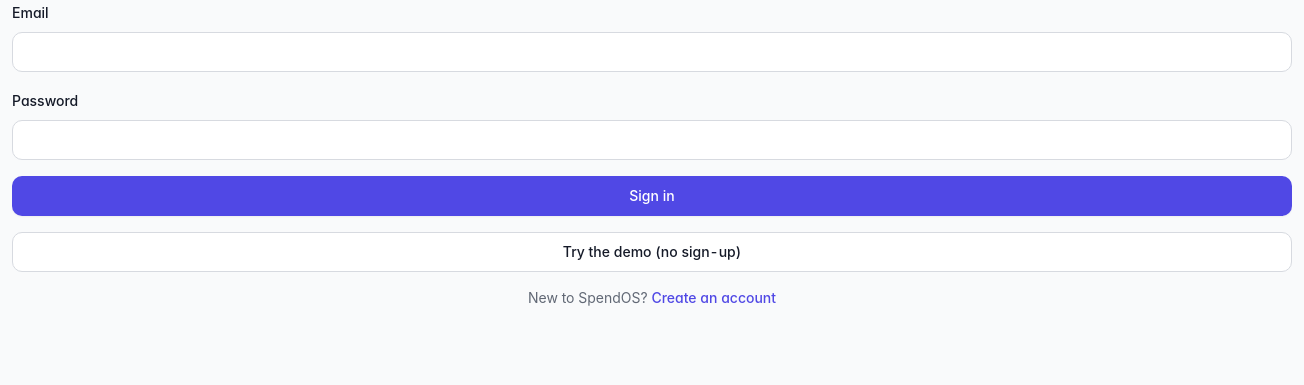
Test: LoginForm › shows the server error for bad credentials
Type "a@example.com" into the field labelled "Email".
click(652, 52); type("a@example.com")  # box x1=12 y1=32 x2=1292 y2=72
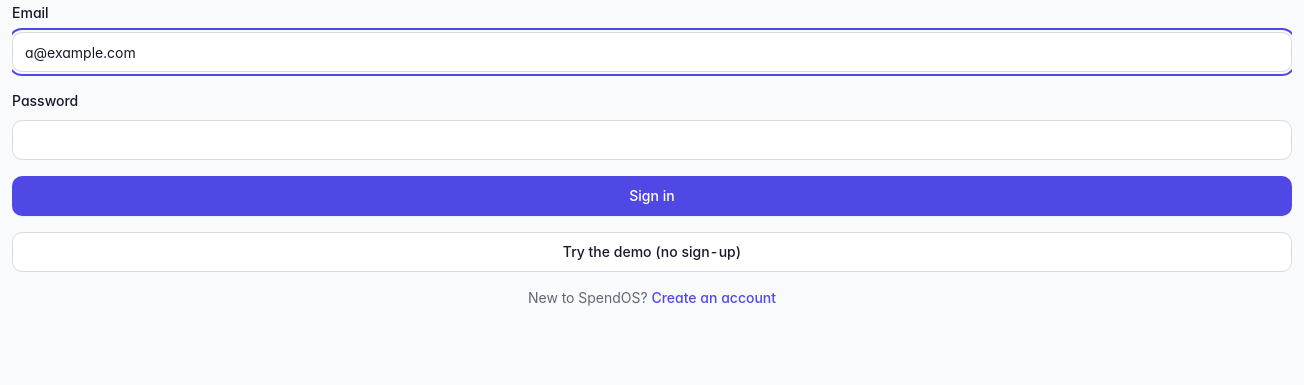
Type "wrong" into the password field labelled "Password".
click(652, 140); type("wrong")  # box x1=12 y1=120 x2=1292 y2=160
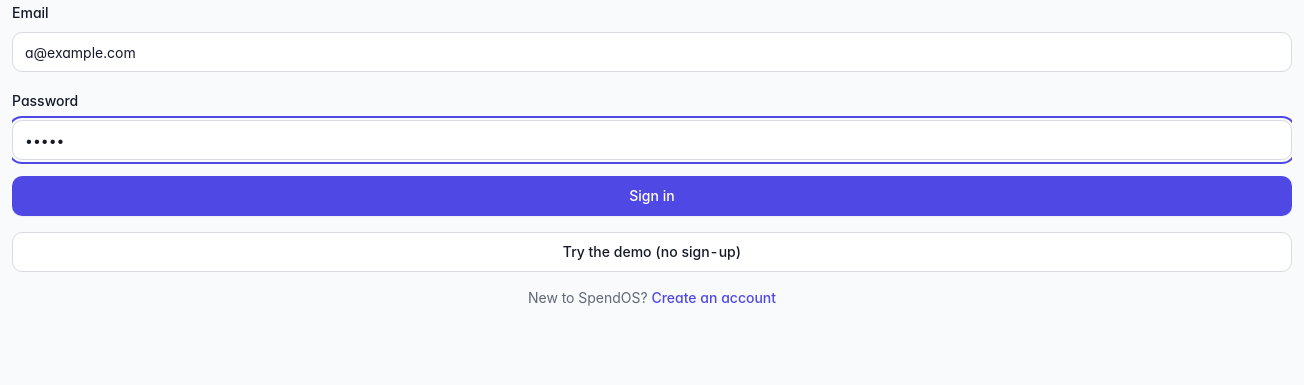
Click the button "Sign in".
click(652, 196)  # box x1=12 y1=176 x2=1292 y2=216
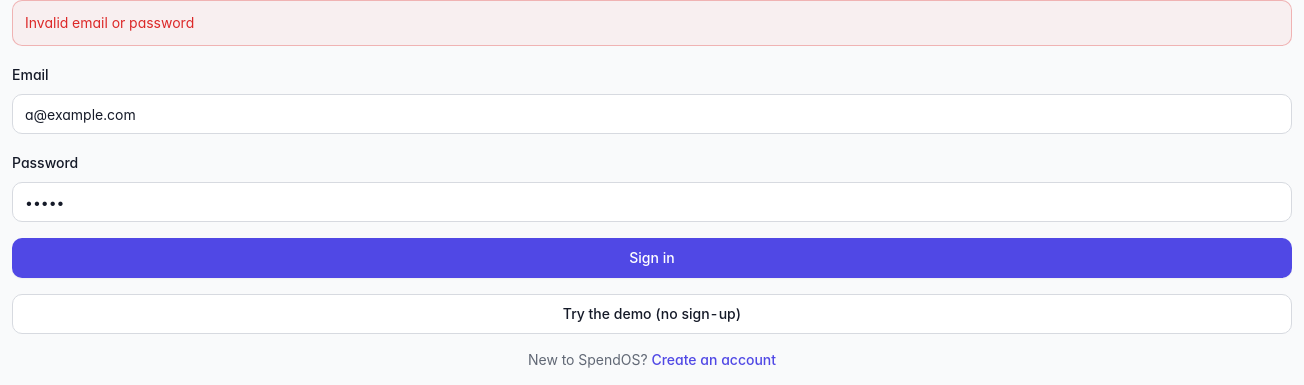
Result: the message reads "Invalid email or password" at x1=25 y1=14 x2=194 y2=31
